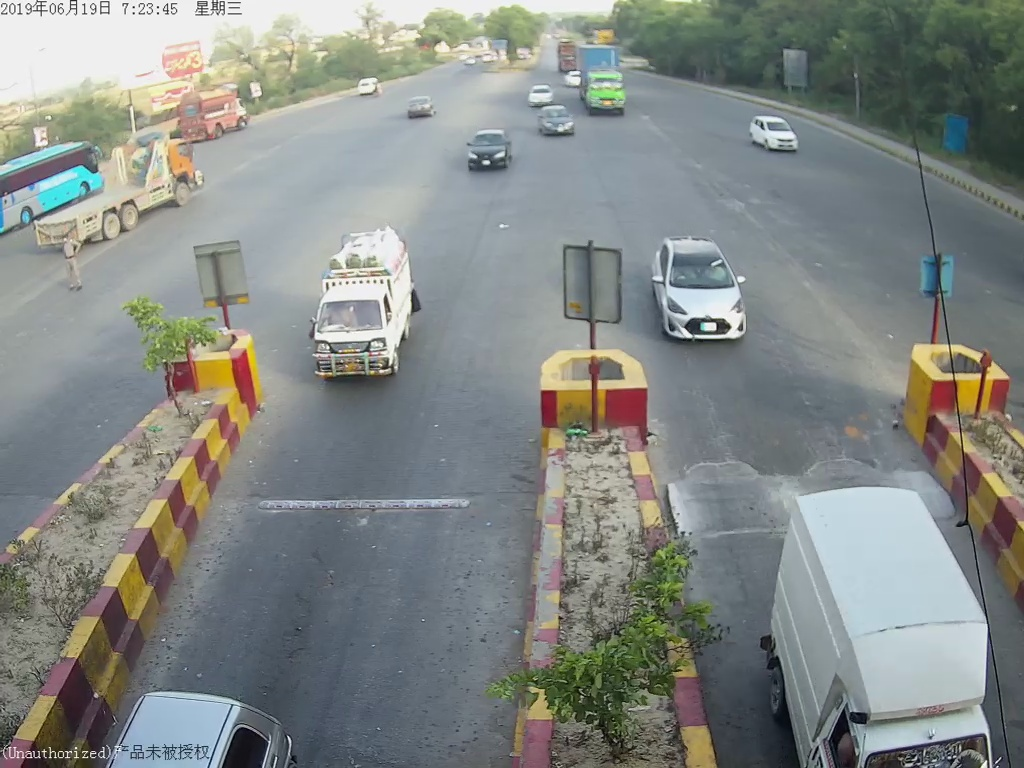Cat-1: (748, 481, 1009, 768), (300, 231, 424, 400), (646, 229, 760, 360), (459, 119, 519, 184)
